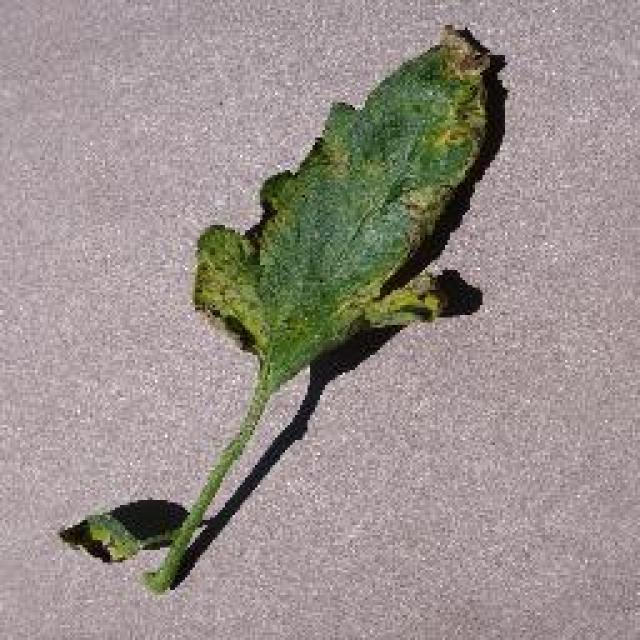Tomato target spot leaf: (189, 26, 496, 396)
